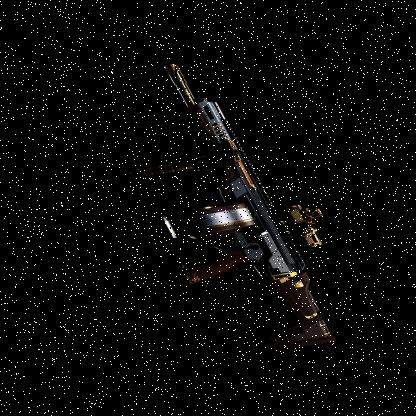rifle: (71, 56, 393, 369)
